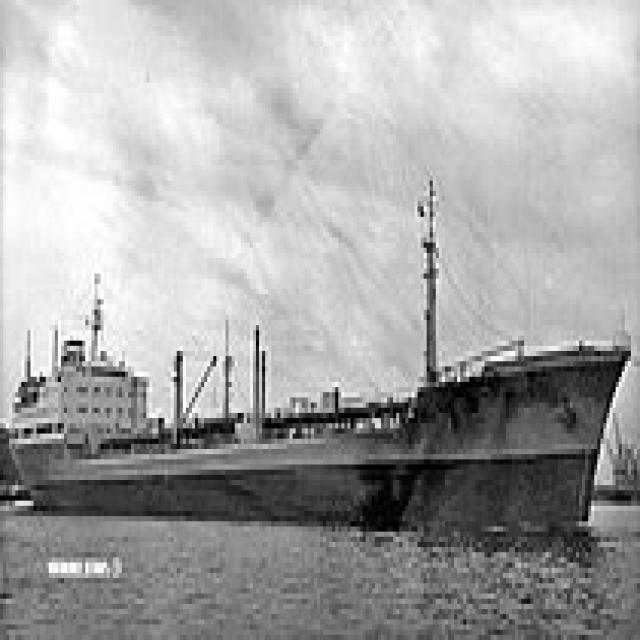Tanker: (12, 170, 634, 522)
